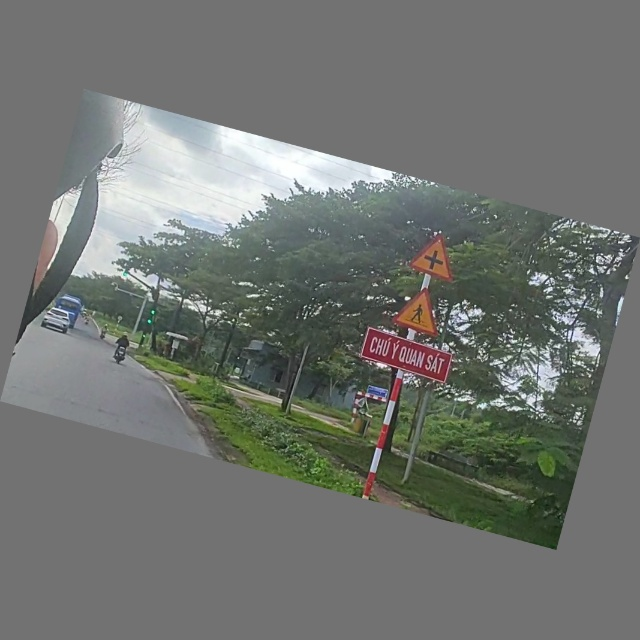W.205a: (407, 230, 467, 287)
W.224: (391, 282, 453, 341)
